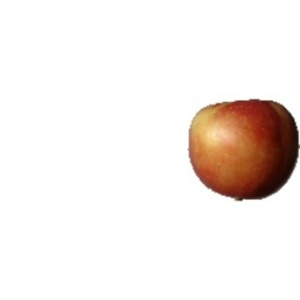maçã braeburn: (184, 96, 299, 203)
